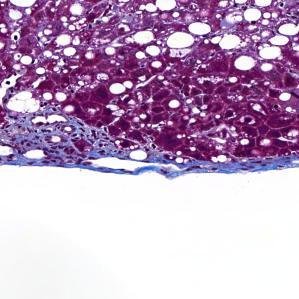fibrosis: (4, 112, 116, 168)
